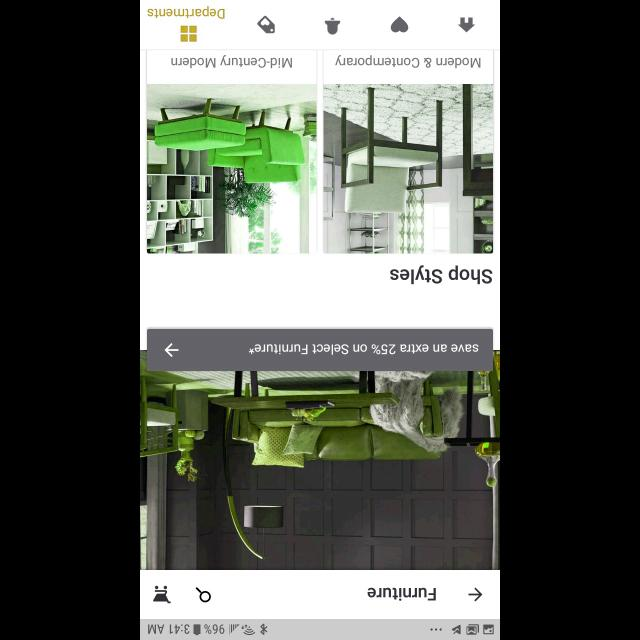icon: (153, 585, 171, 603), (257, 16, 275, 34), (390, 15, 408, 32), (324, 17, 340, 35), (457, 17, 475, 33), (180, 26, 197, 42), (195, 586, 211, 602), (164, 342, 180, 358), (468, 587, 482, 601)
image: (140, 350, 500, 570), (147, 84, 317, 253), (323, 84, 492, 253)
text: (249, 344, 479, 354), (335, 55, 481, 69), (390, 264, 492, 284), (172, 55, 292, 69), (147, 5, 225, 19), (368, 587, 437, 601)
uppertaskbar: (140, 618, 500, 640)
